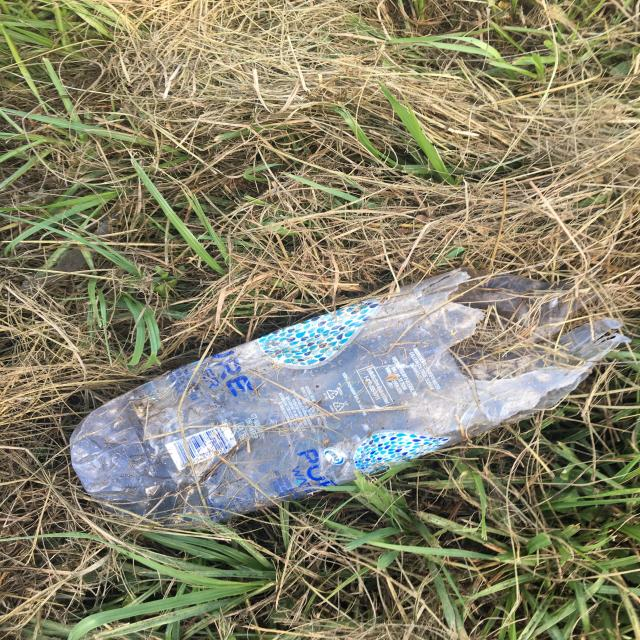litter: (355, 9, 640, 426)
